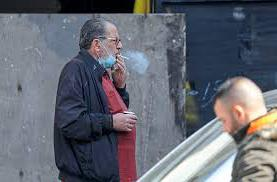mask_weared_incorrect: (209, 102, 241, 141), (96, 35, 126, 67)
